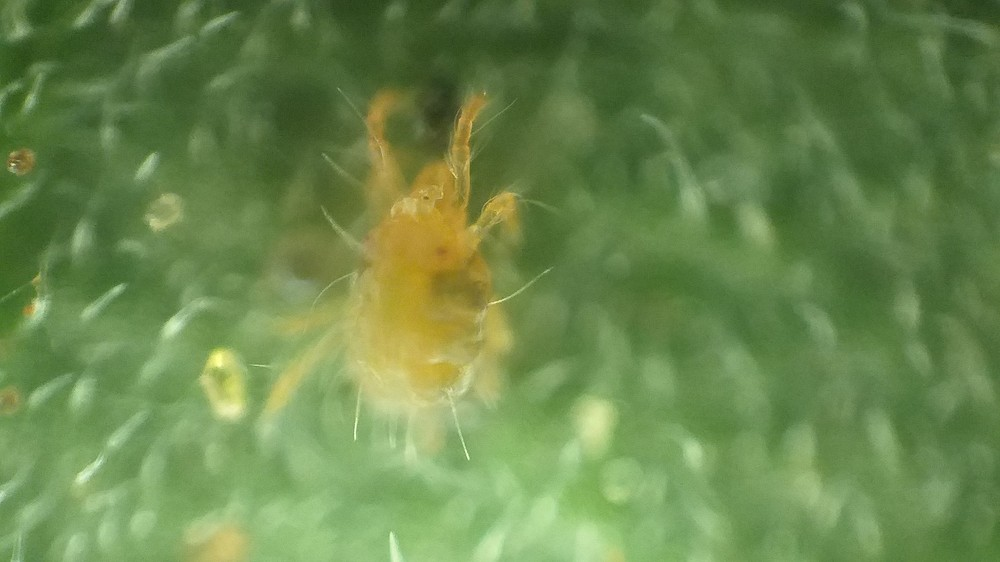Aracnido Rojo: (262, 85, 587, 472)
